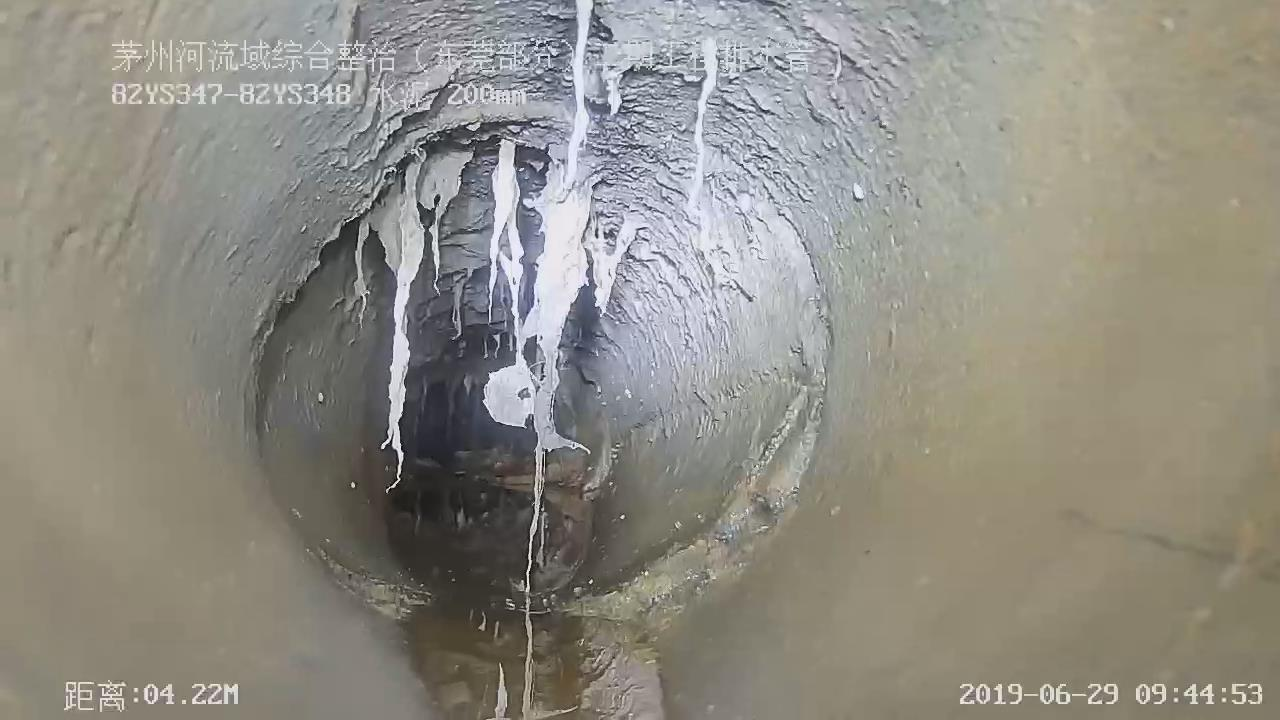CKTJ: (235, 72, 844, 632)
JG: (341, 0, 889, 488)
SG: (482, 0, 639, 632), (354, 152, 472, 460), (689, 38, 718, 242)
